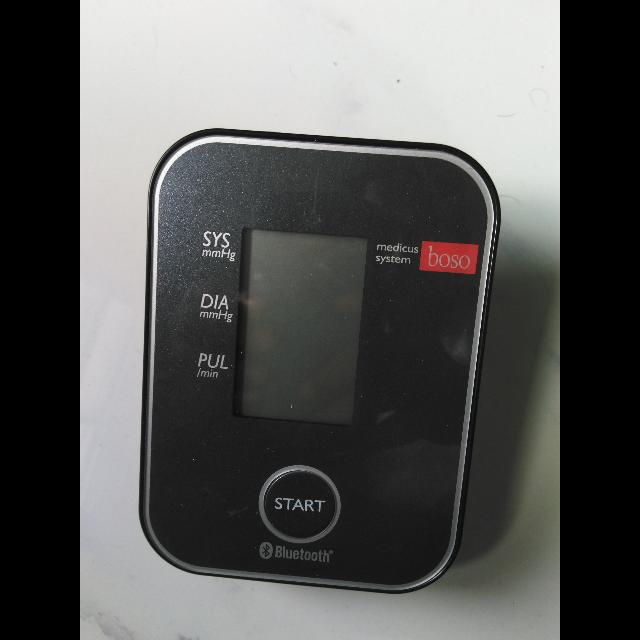Blood-Pressure-Monitor: (115, 112, 478, 602)
